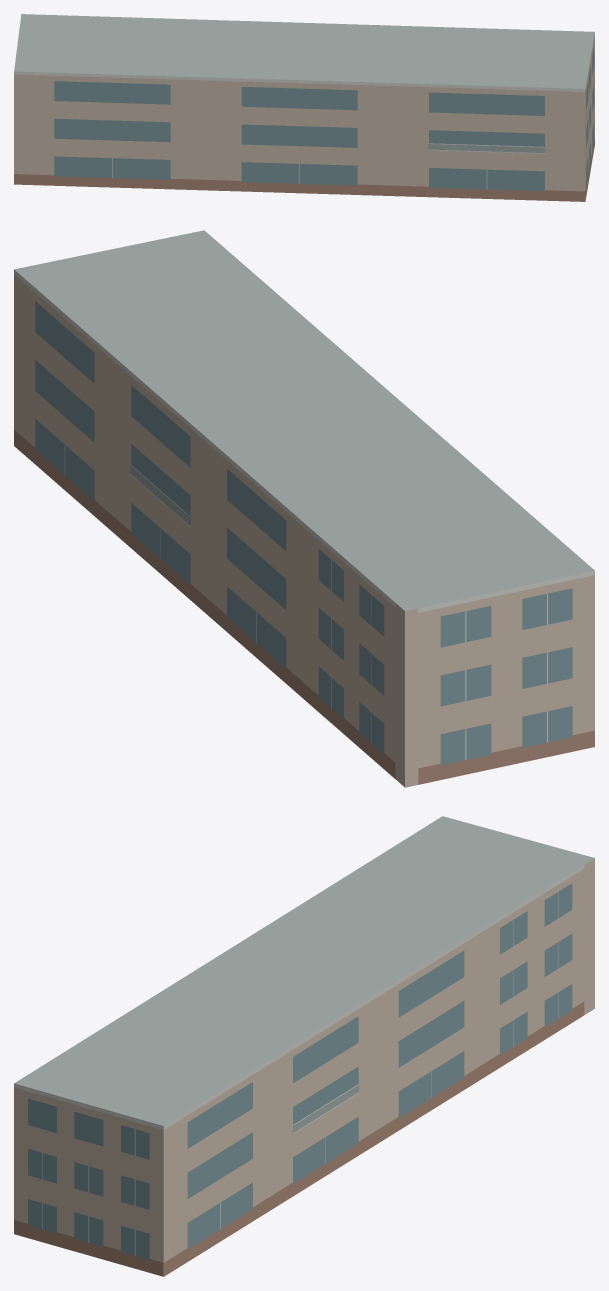
The model's file is survey-upis-32479093.glb.
The picture shows the model from 3 angles, top to bottom: view 1: azimuth 30°, elevation 25°; view 2: azimuth 150°, elevation 25°; view 3: azimuth 270°, elevation 25°; orthographic projection. The views are drawn at different scales.
Parts seen in each view (by area): view 1: survey-upis-32479093.tmp; view 2: survey-upis-32479093.tmp; view 3: survey-upis-32479093.tmp.
Boxes of the visible parts, bbox=[...] form: survey-upis-32479093.tmp: bbox=[14, 14, 594, 201]; survey-upis-32479093.tmp: bbox=[14, 230, 594, 787]; survey-upis-32479093.tmp: bbox=[14, 816, 594, 1276].
Bounding box in the file's own units: 40.37 × 9.15 × 31.96.
